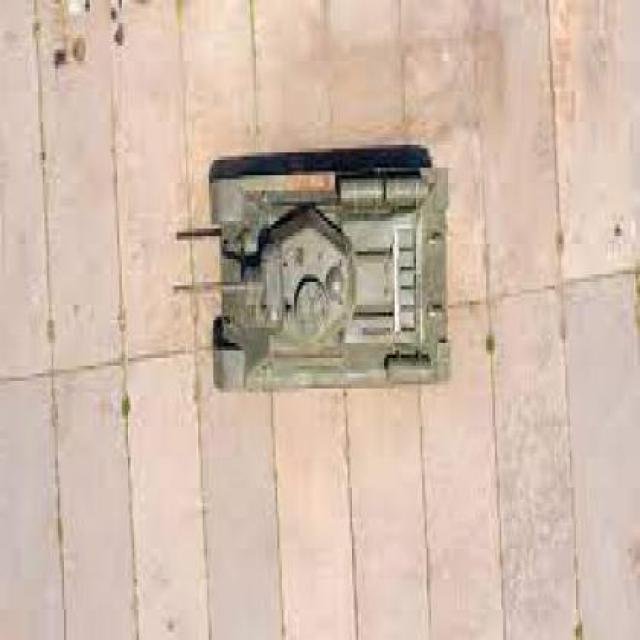tank: (171, 159, 451, 393)
